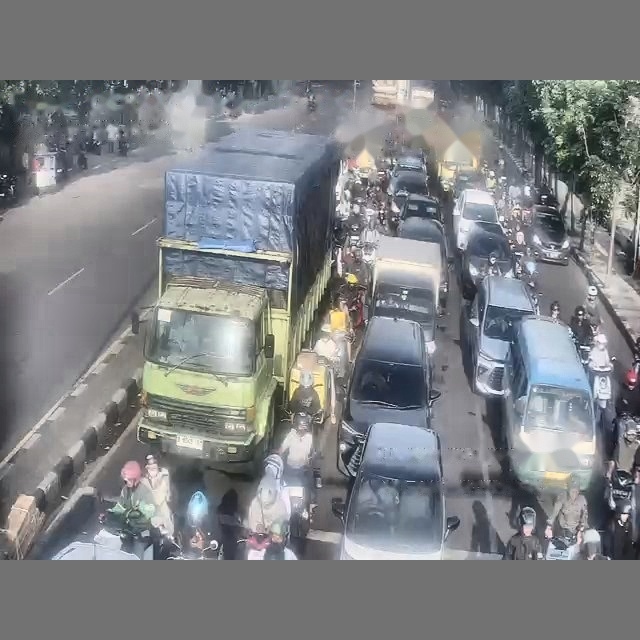Mobil: (331, 423, 459, 559), (337, 316, 440, 475), (463, 276, 535, 396), (396, 217, 452, 308), (460, 229, 514, 299), (453, 189, 499, 249), (529, 205, 569, 264), (388, 171, 429, 223), (399, 194, 441, 221), (389, 171, 428, 197), (453, 167, 484, 196), (393, 155, 426, 174)
Motor: (605, 468, 633, 511), (545, 536, 578, 559), (617, 414, 639, 445)
Truk: (137, 129, 340, 476)
